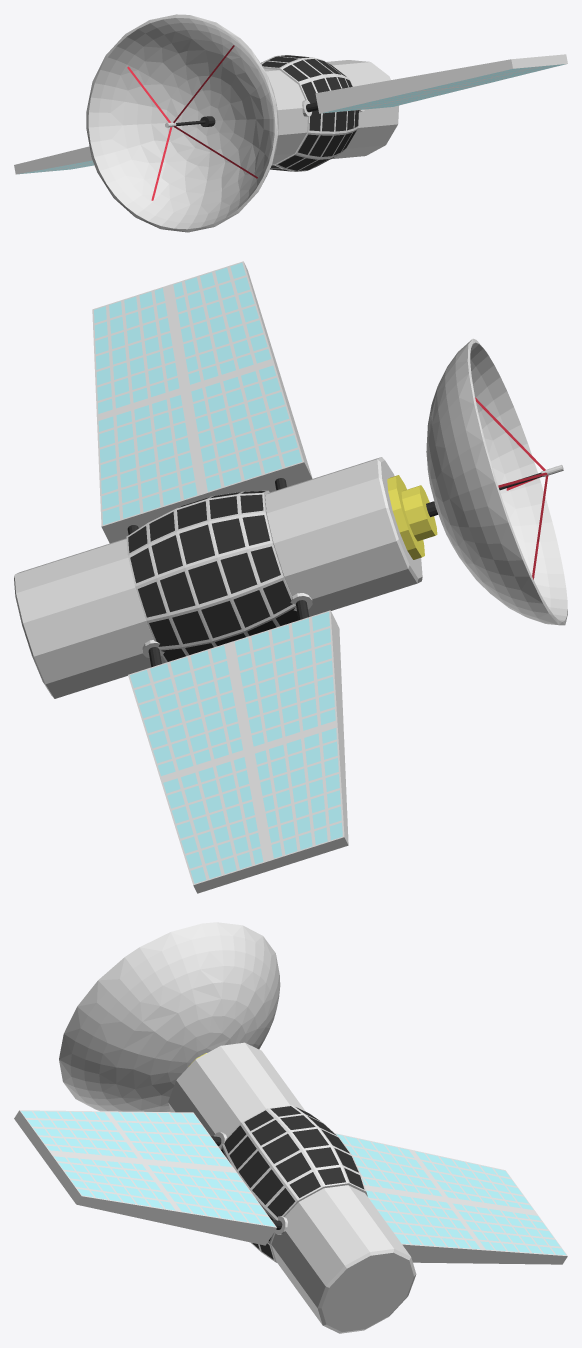
Rendered from 8afc2e17-eb49-438a-a2d9-4d346fa0e4d3.glb.
The picture shows the model from 3 angles, top to bottom: view 1: azimuth 30°, elevation 25°; view 2: azimuth 150°, elevation 25°; view 3: azimuth 270°, elevation 25°; orthographic projection. The views are drawn at different scales.
Parts seen in each view (by area): view 1: Sphere001, Box20180, Object001, Cylinder004, Cylinder002, Cylinder005, Object003, Box20179, Object002; view 2: Object002, Object003, Sphere001, Box20179, Box20180, Cylinder002, Object001, Cylinder004, Cylinder005, Cylinder007, Cylinder006; view 3: Sphere001, Cylinder004, Object003, Box20180, Object002, Box20179, Object001, Cylinder002, Cylinder005.
Part boxes in pixels (x1,y1,x2,y2): Sphere001: [86, 14, 278, 232]; Box20180: [315, 54, 567, 113]; Object001: [262, 55, 358, 171]; Cylinder004: [327, 60, 399, 159]; Cylinder002: [264, 68, 307, 164]; Cylinder005: [261, 55, 359, 171]; Object003: [322, 64, 564, 113]; Box20179: [14, 146, 93, 174]; Object002: [18, 160, 93, 174]; Object002: [130, 612, 342, 883]; Object003: [94, 263, 302, 524]; Sphere001: [426, 338, 567, 625]; Box20179: [128, 610, 348, 893]; Box20180: [92, 261, 312, 543]; Cylinder002: [265, 457, 422, 616]; Object001: [128, 491, 298, 661]; Cylinder004: [14, 538, 165, 698]; Cylinder005: [126, 490, 295, 662]; Cylinder007: [401, 485, 437, 541]; Cylinder006: [387, 475, 424, 559]; Sphere001: [59, 922, 280, 1112]; Cylinder004: [271, 1185, 416, 1333]; Object003: [21, 1111, 274, 1226]; Box20180: [14, 1110, 276, 1245]; Object002: [336, 1134, 565, 1255]; Box20179: [335, 1133, 567, 1264]; Object001: [221, 1106, 364, 1259]; Cylinder002: [168, 1042, 305, 1137]; Cylinder005: [221, 1105, 367, 1262].
Size of the model in its own units: 654 by 436 by 684.
